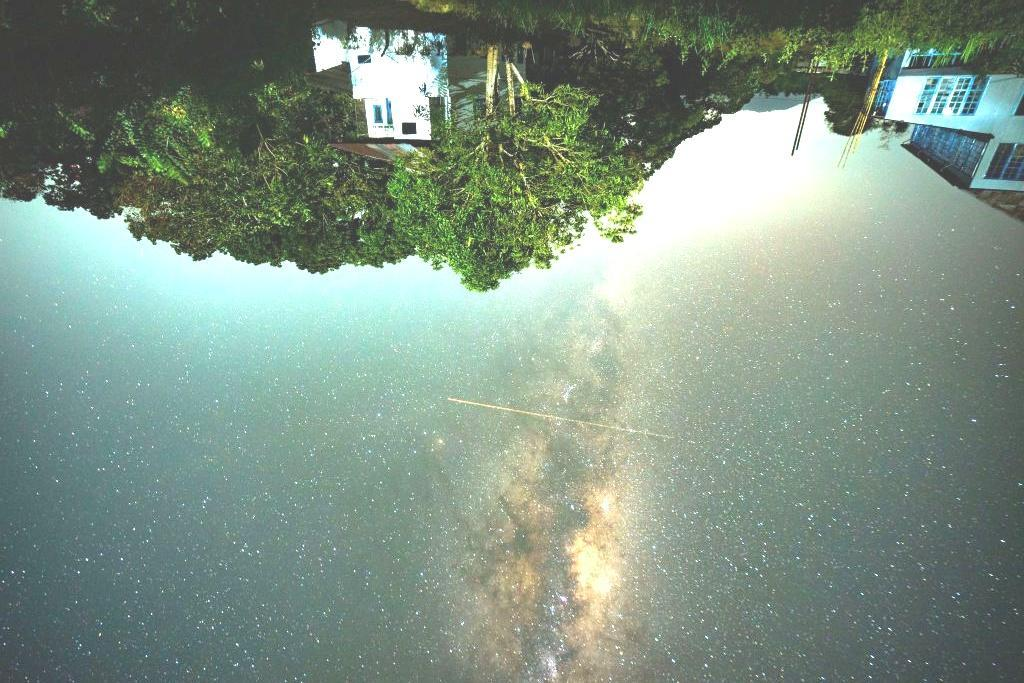meteorite: (431, 390, 572, 426)
